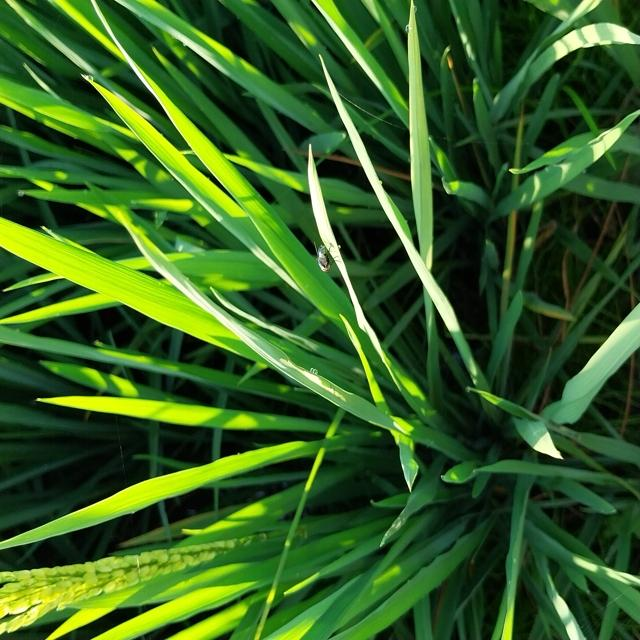Leaf scald: (309, 231, 344, 289)
